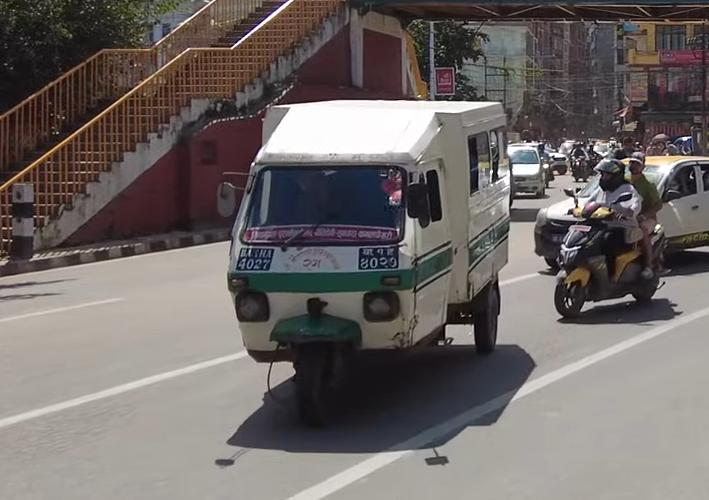scooter: (556, 189, 675, 328)
taxi: (531, 152, 709, 271)
tempo: (214, 89, 519, 441)
